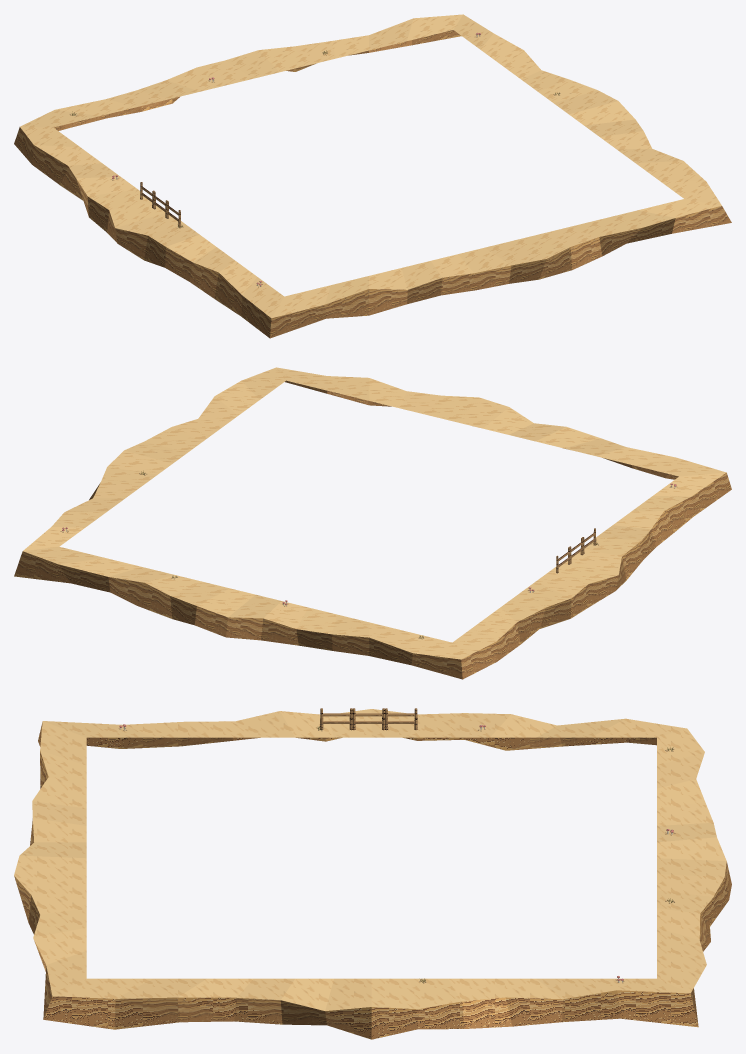
The model's file is entorno_16.glb.
3 views of the same model, one above another, from view 1: azimuth 30°, elevation 25°; view 2: azimuth 150°, elevation 25°; view 3: azimuth 270°, elevation 25° (orthographic). The views are drawn at different scales.
Parts seen in each view (by area): view 1: deserto_entorno_16; view 2: deserto_entorno_16; view 3: deserto_entorno_16.
Boxes of the visible parts, <box> form: deserto_entorno_16: <box>14,14,731,338</box>; deserto_entorno_16: <box>14,367,731,679</box>; deserto_entorno_16: <box>14,708,731,1039</box>.
Bounding box in the file's own units: 20.59 × 1.7 × 20.39.
Materials: 7 (5 with a texture image).
